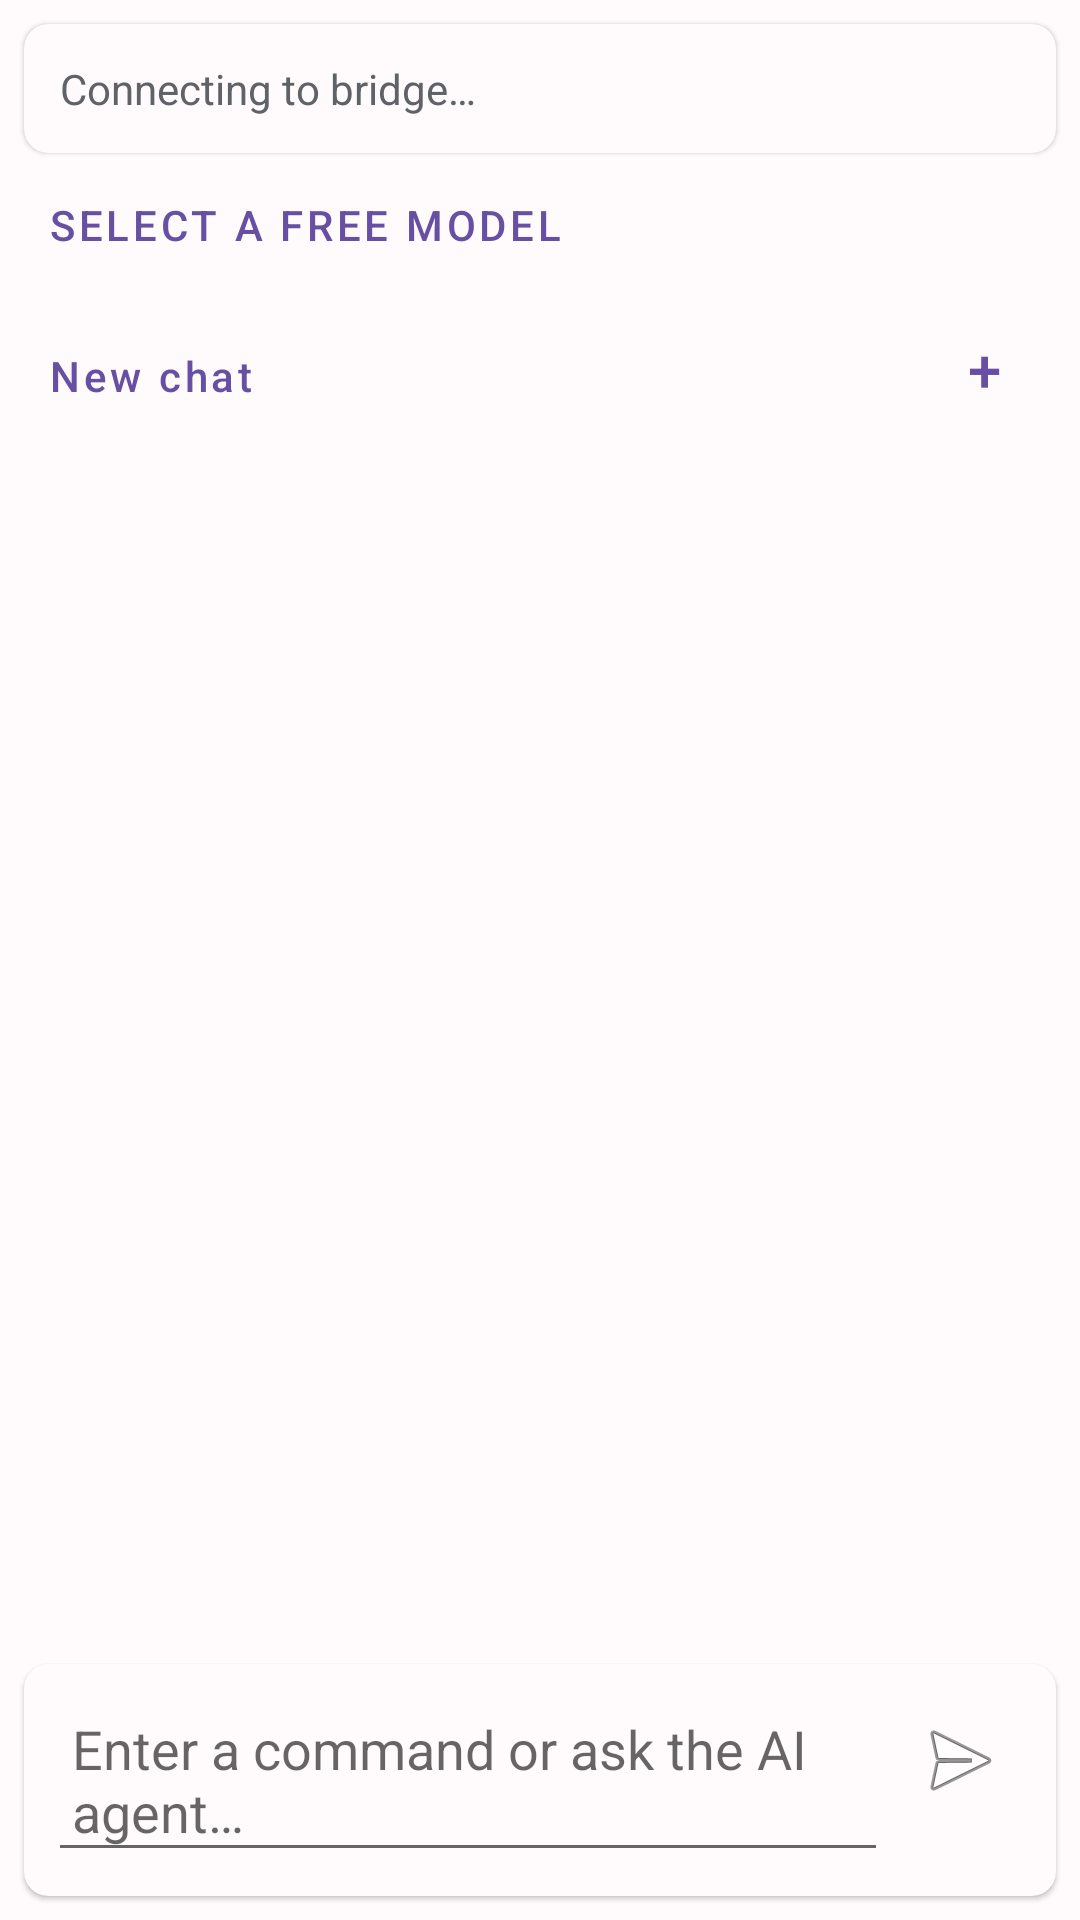

Icon click points for this 1080px x 1920px phone screenshot, format (x,y):
Send: (961,1760)
